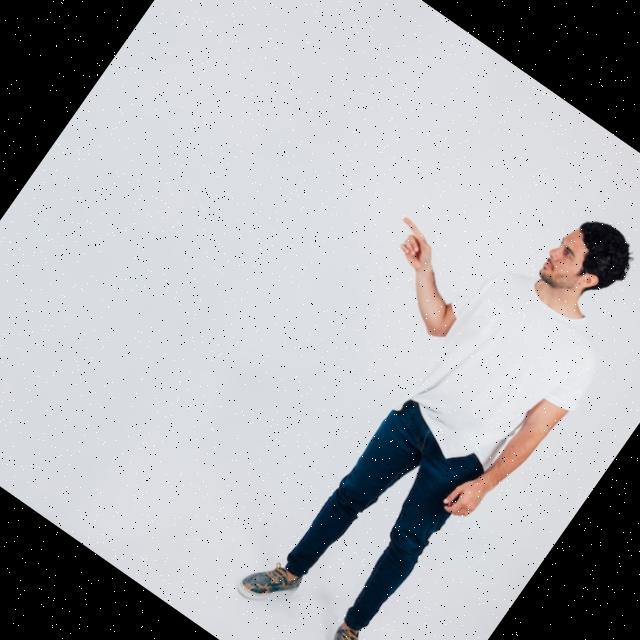Person: (169, 125, 640, 640)
